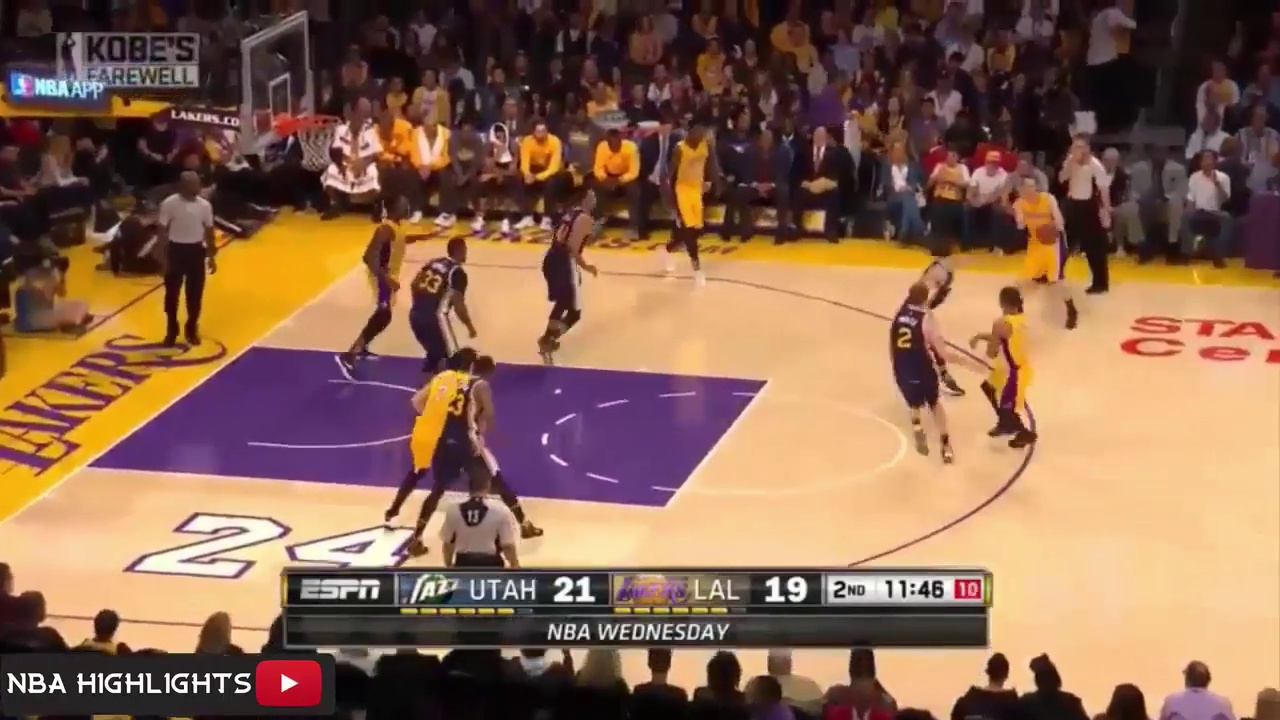jazz: (447, 356, 542, 532), (885, 285, 962, 465), (538, 195, 605, 359), (906, 238, 973, 385), (409, 234, 476, 360)
lakers: (345, 192, 432, 374), (395, 350, 478, 516), (1007, 178, 1084, 329), (659, 126, 724, 286), (980, 281, 1027, 448)
